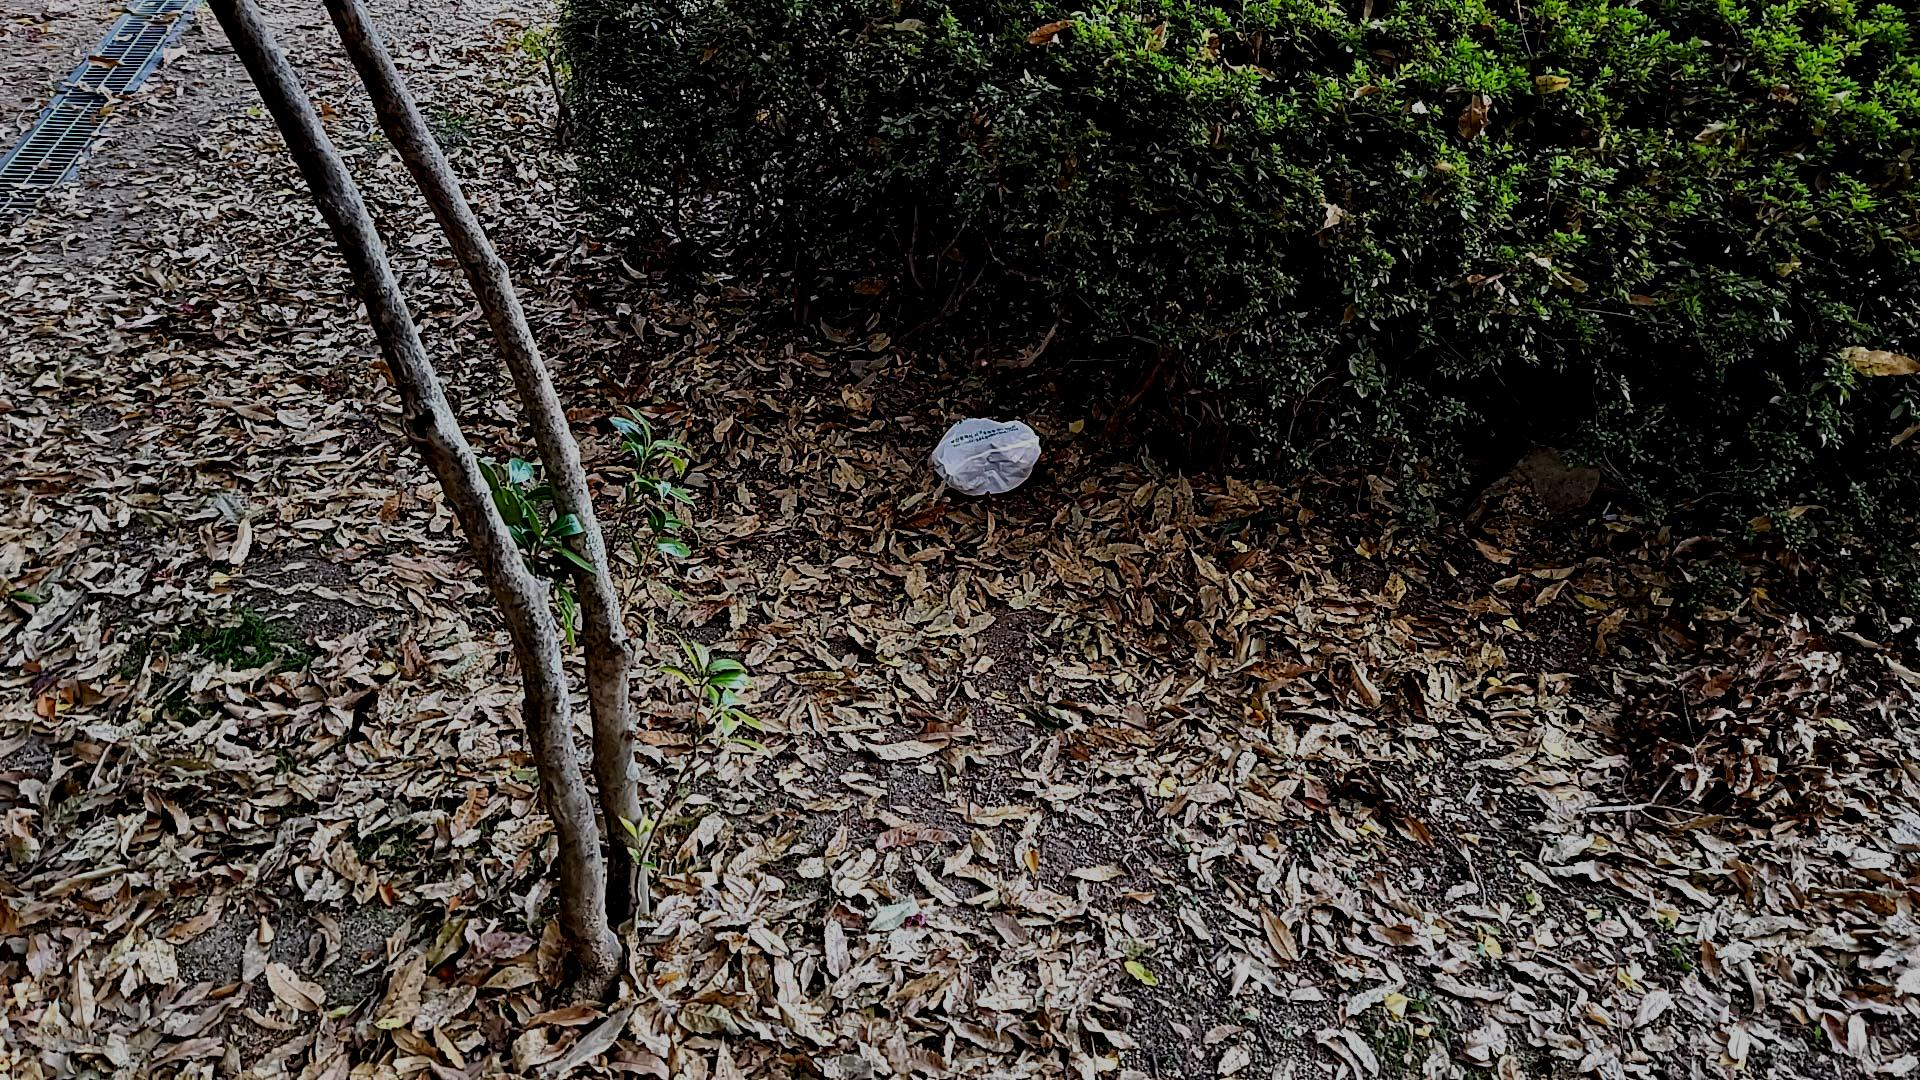white_bag: (914, 407, 1048, 505)
